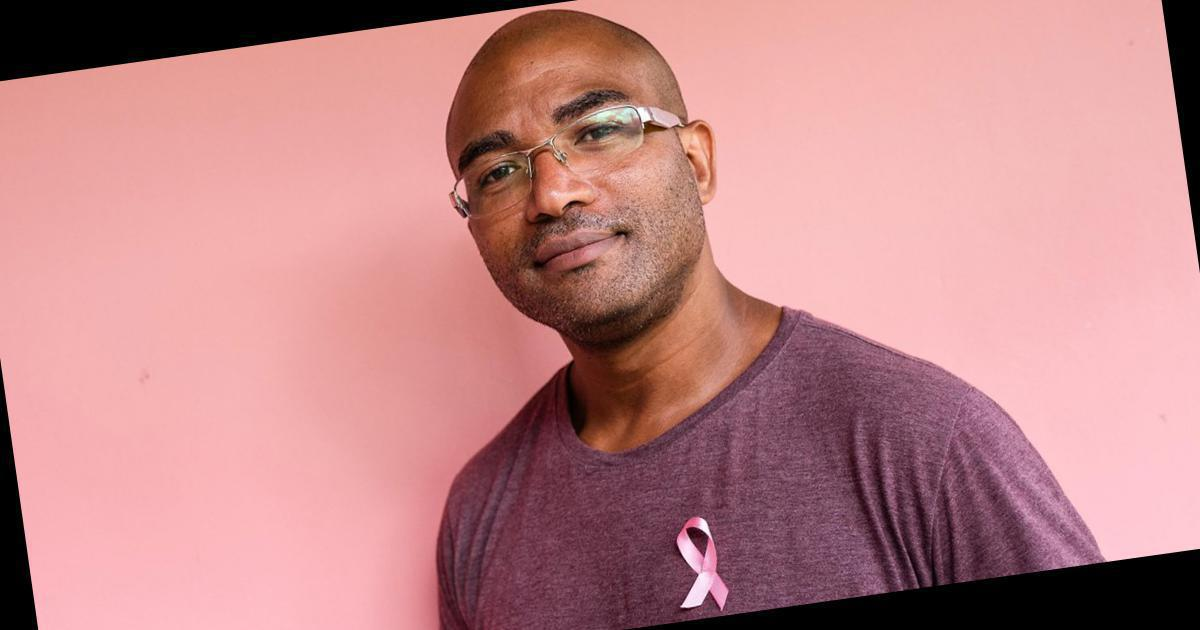Sober: (452, 60, 678, 305)
